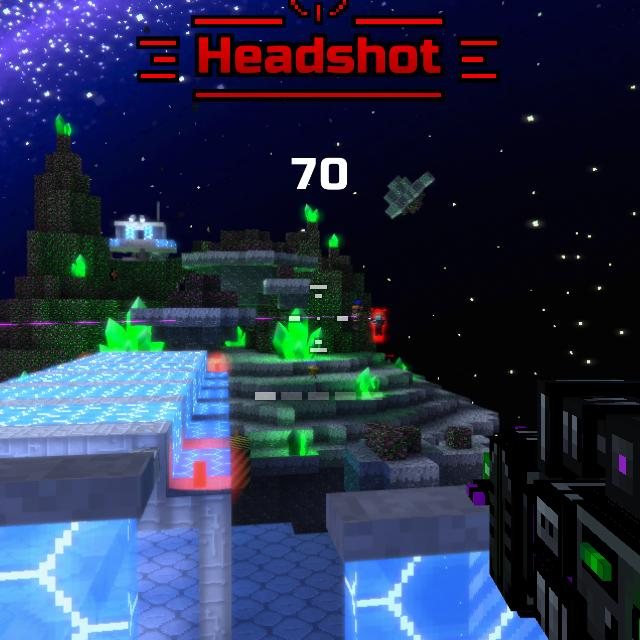Enemy: (373, 313, 387, 336)
